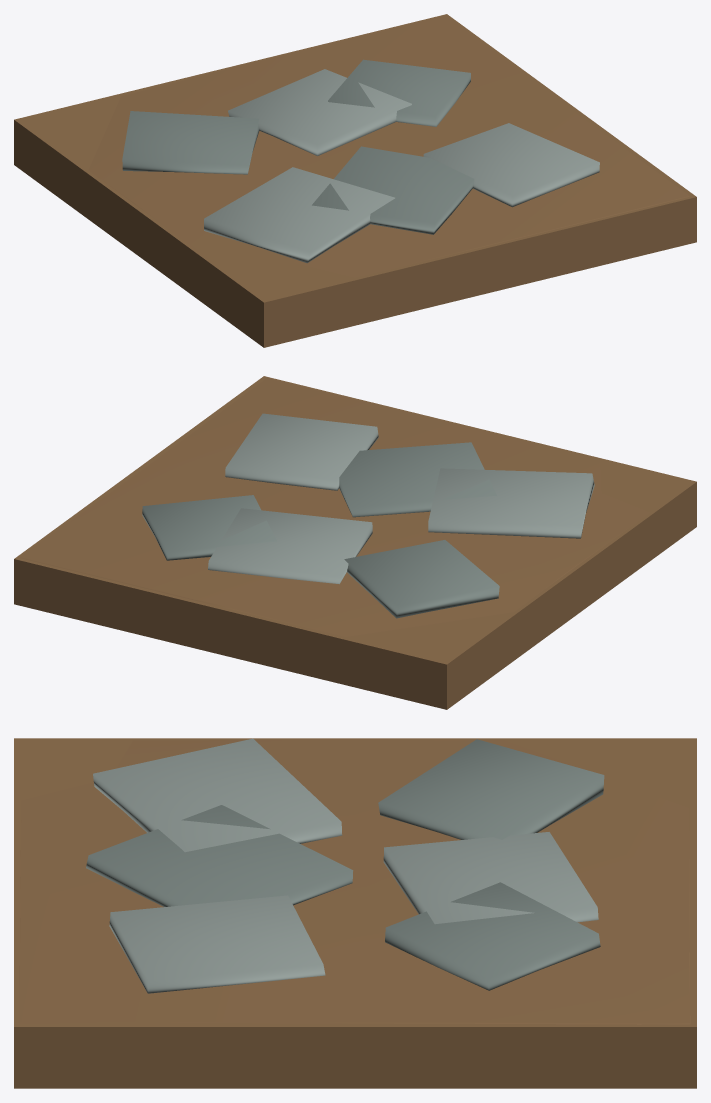
File: stage1_floor_03.glb
3 renders of one model, top to bottom at view 1: azimuth 30°, elevation 25°; view 2: azimuth 150°, elevation 25°; view 3: azimuth 270°, elevation 25°, orthographic. The views are drawn at different scales.
Parts seen in each view (by area): view 1: stage1_floor_03_dirt, stage1_floor_03_stone, stage1_floor_03_stone2; view 2: stage1_floor_03_dirt, stage1_floor_03_stone, stage1_floor_03_stone2; view 3: stage1_floor_03_dirt, stage1_floor_03_stone, stage1_floor_03_stone2.
Boxes of the visible parts, x1,y1,x2,y2 form: stage1_floor_03_dirt: [14, 14, 696, 347]; stage1_floor_03_stone: [204, 69, 599, 263]; stage1_floor_03_stone2: [122, 59, 474, 234]; stage1_floor_03_dirt: [14, 376, 696, 709]; stage1_floor_03_stone: [208, 413, 594, 584]; stage1_floor_03_stone2: [142, 442, 499, 618]; stage1_floor_03_dirt: [14, 738, 696, 1088]; stage1_floor_03_stone: [93, 738, 598, 993]; stage1_floor_03_stone2: [86, 739, 604, 990].
Size of the model in its own units: 1 by 0.1295 by 1.
